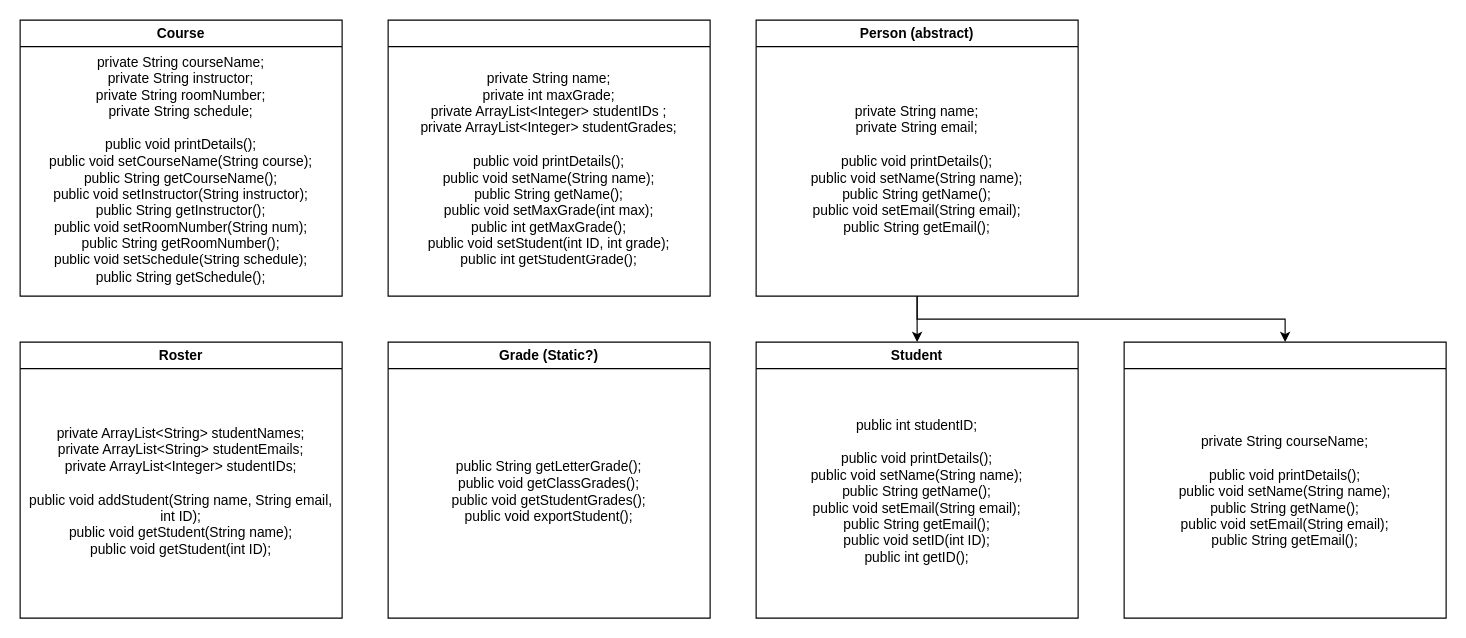
Image size: 1466x638. Some labels were removed from this diagram. Each missing label, with the box of its shape:
Assignment: (387, 19, 710, 296)
Instructor: (1123, 341, 1446, 618)
